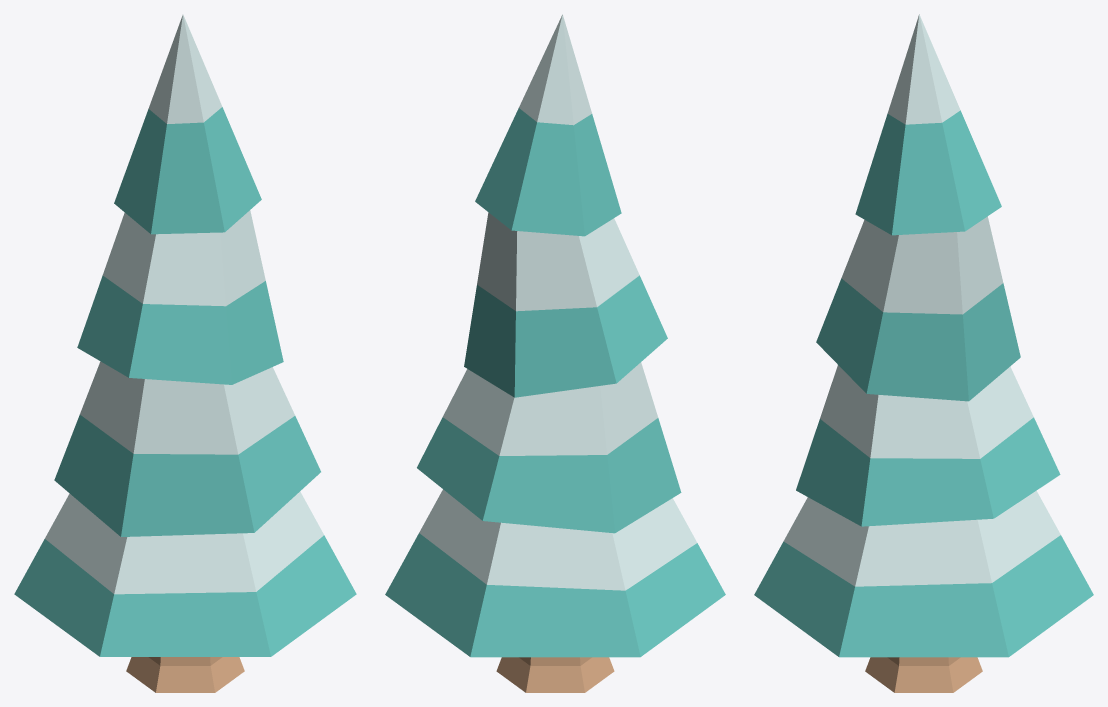
The model's file is treePineSnow.glb.
3 renders of one model, left to right at view 1: azimuth 30°, elevation 25°; view 2: azimuth 150°, elevation 25°; view 3: azimuth 270°, elevation 25°, orthographic.
Visible parts, largest first — view 1: Mesh_treePineSnow_1, Mesh_treePineSnow, Mesh_treePineSnow_2; view 2: Mesh_treePineSnow_1, Mesh_treePineSnow, Mesh_treePineSnow_2; view 3: Mesh_treePineSnow_1, Mesh_treePineSnow, Mesh_treePineSnow_2.
Boxes of the visible parts, bbox=[...] form: Mesh_treePineSnow_1: bbox=[14, 107, 356, 656]; Mesh_treePineSnow: bbox=[45, 14, 323, 594]; Mesh_treePineSnow_2: bbox=[126, 657, 244, 692]; Mesh_treePineSnow_1: bbox=[385, 108, 725, 657]; Mesh_treePineSnow: bbox=[419, 14, 697, 590]; Mesh_treePineSnow_2: bbox=[496, 657, 614, 692]; Mesh_treePineSnow_1: bbox=[754, 110, 1093, 657]; Mesh_treePineSnow: bbox=[783, 14, 1060, 586]; Mesh_treePineSnow_2: bbox=[865, 657, 982, 692].
Size of what is drawn, in the model's own units: 0.651 by 1.6 by 0.7517.
